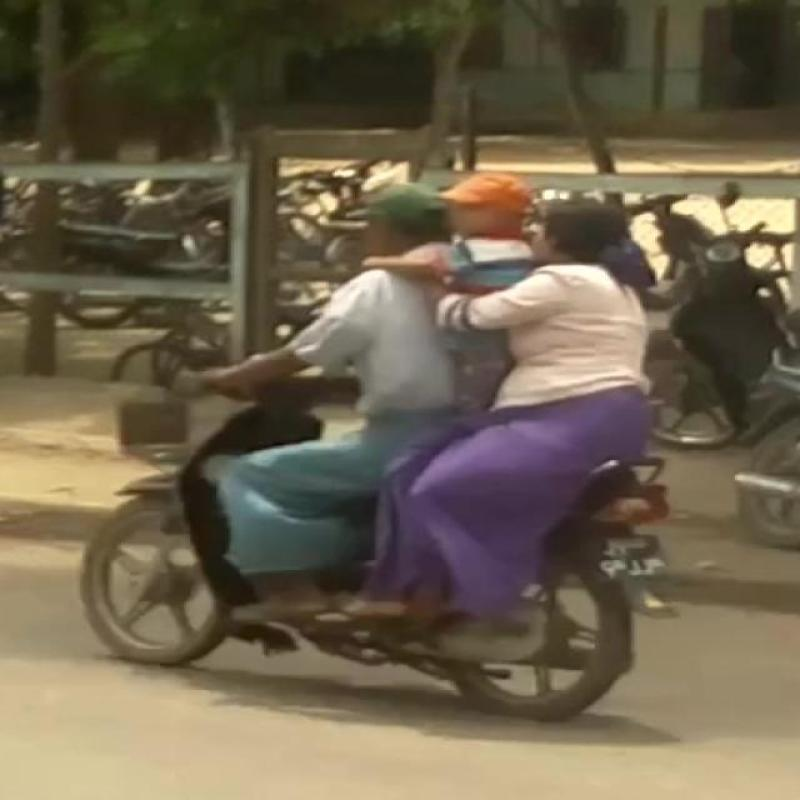nohelmet: (531, 176, 665, 303), (422, 148, 516, 256)
